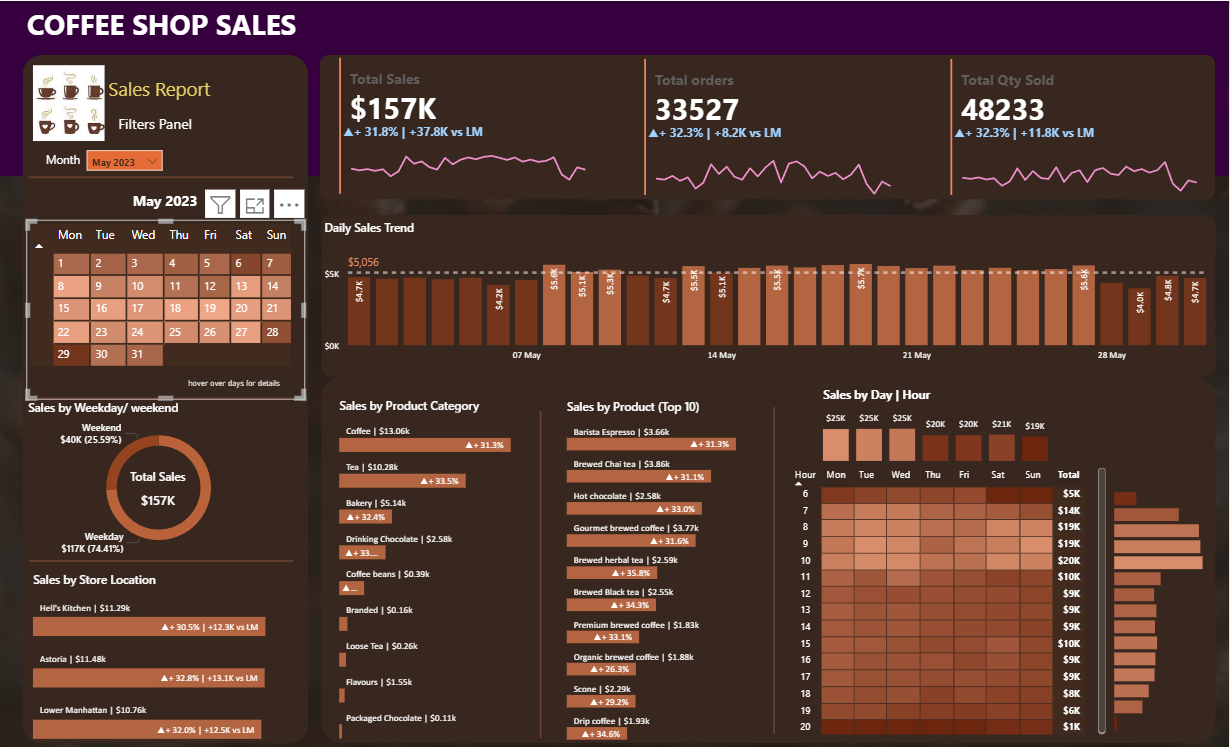

What the dashboard file says about the page in this screenshot:
{"tool":"powerbi","page":{"name":"Coffee Sales","canvas":[1400,850],"ordinal":0},"visuals":[{"type":"shape","box":[0,0,1400.3,199.6],"z":0},{"type":"shape","box":[25.5,61.5,325.7,785],"z":1000},{"type":"shape","box":[364.7,61.5,1020,165.1],"z":2000},{"type":"textbox","box":[25.5,0,325.7,52.5],"z":3000},{"type":"cardVisual","fields":{"Data":["Transactions.Total Sales"]},"box":[381.2,60,300.2,165.1],"z":4000,"group":"g3"},{"type":"cardVisual","fields":{"Data":["Transactions.Toatal orders"]},"box":[729.4,60.8,300.2,165.1],"z":4000,"group":"g4"},{"type":"cardVisual","fields":{"Data":["Transactions.Total Qty Sold"]},"box":[1077.6,61.5,300.2,165.1],"z":4000,"group":"g5"},{"type":"slicer","fields":{"Values":["Date Table.Month Year"]},"box":[94.6,165.1,96.1,34.5],"z":4000},{"type":"group","id":"g1","title":"Group 1","box":[381.2,60,300.2,165.1],"z":5000},{"type":"group","id":"g2","title":"Group 1","box":[729.4,60.8,300.2,165.1],"z":6000},{"type":"lineChart","fields":{"Y":["Transactions.Total Sales"],"Category":["Date Table.Date Hierarchy.Date"]},"box":[385.7,139.5,295.7,85.5],"z":6000,"group":"g3"},{"type":"lineChart","fields":{"Category":["Date Table.Date Hierarchy.Date"],"Y":["Transactions.Toatal orders"]},"box":[733.9,140.3,295.7,85.5],"z":6000,"group":"g4"},{"type":"lineChart","fields":{"Category":["Date Table.Date Hierarchy.Date"],"Y":["Transactions.Total Qty Sold"]},"box":[1082.1,141,295.7,85.5],"z":6000,"group":"g5"},{"type":"group","id":"g3","title":"Group 2","box":[381.2,60,300.2,165.1],"z":6002,"group":"g1"},{"type":"group","id":"g4","title":"Group 2","box":[729.4,60.8,300.2,165.1],"z":6002,"group":"g2"},{"type":"group","id":"g5","title":"Group 2","box":[1077.6,61.5,300.2,165.1],"z":6002,"group":"g6"},{"type":"group","id":"g6","title":"Group 1","box":[1077.6,61.5,300.2,165.1],"z":7000},{"type":"pivotTable","fields":{"Columns":["Date Table.Day Name"],"Rows":["Date Table.Weekname"],"Values":["Min(Date Table.Day Number)"]},"box":[30,249.1,318.2,205.6],"z":8000},{"type":"card","fields":{"Values":["Min(Date Table.Month Year)"]},"box":[124.6,214.6,129.1,28.5],"z":9000},{"type":"card","fields":{"Values":["Transactions.Foot note"]},"box":[184.6,420.2,163.6,34.5],"z":10000},{"type":"shape","box":[33,438.3,301.7,28.5],"z":11000},{"type":"shape","box":[33,186.1,301.7,28.5],"z":12000},{"type":"clusteredBarChart","title":"Sales by Store Location","fields":{"Category":["Transactions.store_location"],"Y":["Transactions.Placeholder","Transactions.Total Sales"]},"box":[33,649.9,300.2,199.6],"z":13000},{"type":"donutChart","title":"Sales by Weekday/ weekend","fields":{"Y":["Transactions.Total Sales"],"Category":["Date Table.Weekday/ weekend"]},"box":[27,454.8,307.7,183.1],"z":14000},{"type":"cardVisual","fields":{"Data":["Transactions.Total Sales"]},"box":[126.1,516.3,106.6,70.5],"z":15000},{"type":"shape","box":[33,624.4,301.7,28.5],"z":16000},{"type":"shape","box":[366.2,427.7,1019.1,418.7],"z":17000},{"type":"shape","box":[366.2,243.1,1019.1,184.6],"z":18000},{"type":"columnChart","title":"Daily Sales Trend","fields":{"Y":["Transactions.Total Sales"],"Category":["Transactions.transaction_date"]},"box":[364.7,249.1,1019.1,171.1],"z":19000},{"type":"clusteredBarChart","title":"Sales by Product Category","fields":{"Y":["Transactions.Placeholder","Transactions.Total Sales"],"Category":["Transactions.product_category"]},"box":[381.7,451.5,233.6,394.5],"z":20000},{"type":"shape","box":[579.7,467.2,72.6,373.2],"z":21000},{"type":"clusteredBarChart","title":"Sales by Product (Top 10)","fields":{"Y":["Transactions.Placeholder","Transactions.Total Sales"],"Category":["Transactions.product_type"]},"box":[640.9,452.9,233.6,394.5],"z":22000},{"type":"shape","box":[846.5,462.3,72,372.2],"z":23000},{"type":"pivotTable","fields":{"Rows":["Transactions.Hour"],"Columns":["Date Table.Day Name"],"Values":["Transactions.Total Sales"]},"box":[896,526.8,369.2,313.7],"z":24000},{"type":"barChart","fields":{"Category":["Transactions.Hour"],"Y":["Transactions.Total Sales"]},"box":[1265.2,546.3,112.6,288.2],"z":25000},{"type":"columnChart","title":"Sales by Day | Hour","fields":{"Y":["Transactions.Total Sales"],"Category":["Date Table.Day Name"]},"box":[933.5,438.3,267.2,91.6],"z":26000},{"type":"textbox","box":[46.5,166.6,79.5,40.5],"z":27000},{"type":"textbox","box":[30,79.5,303.2,40.5],"z":28000},{"type":"textbox","box":[63,124.6,228.1,40.5],"z":29000},{"type":"image","box":[33,69,91.6,96.1],"z":30000}]}

Visuals, with their boxes in screenshot pixels (x1, y1, x2, y2), scaled from the page's 1400x850 canvas onto the 1230x747 screenshot:
shape: <box>0,0,1229,175</box>
shape: <box>22,54,309,744</box>
shape: <box>320,54,1217,199</box>
textbox: <box>22,0,309,46</box>
cardVisual - Transactions.Total Sales: <box>335,53,599,198</box>
cardVisual - Transactions.Toatal orders: <box>641,53,905,199</box>
cardVisual - Transactions.Total Qty Sold: <box>947,54,1210,199</box>
slicer - Date Table.Month Year: <box>83,145,168,175</box>
"Group 1" group: <box>335,53,599,198</box>
"Group 1" group: <box>641,53,905,199</box>
lineChart - Transactions.Total Sales x Date Table.Date Hierarchy.Date: <box>339,123,599,198</box>
lineChart - Date Table.Date Hierarchy.Date x Transactions.Toatal orders: <box>645,123,905,198</box>
lineChart - Date Table.Date Hierarchy.Date x Transactions.Total Qty Sold: <box>951,124,1210,199</box>
"Group 2" group: <box>335,53,599,198</box>
"Group 2" group: <box>641,53,905,199</box>
"Group 2" group: <box>947,54,1210,199</box>
"Group 1" group: <box>947,54,1210,199</box>
pivotTable - Date Table.Day Name x Date Table.Weekname: <box>26,219,306,400</box>
card - Min(Date Table.Month Year): <box>109,189,223,214</box>
card - Transactions.Foot note: <box>162,369,306,400</box>
shape: <box>29,385,294,410</box>
shape: <box>29,164,294,189</box>
"Sales by Store Location" clusteredBarChart: <box>29,571,293,746</box>
"Sales by Weekday/ weekend" donutChart: <box>24,400,294,561</box>
cardVisual - Transactions.Total Sales: <box>111,454,204,516</box>
shape: <box>29,549,294,574</box>
shape: <box>322,376,1217,744</box>
shape: <box>322,214,1217,376</box>
"Daily Sales Trend" columnChart: <box>320,219,1216,369</box>
"Sales by Product Category" clusteredBarChart: <box>335,397,541,743</box>
shape: <box>509,411,573,739</box>
"Sales by Product (Top 10)" clusteredBarChart: <box>563,398,768,745</box>
shape: <box>744,406,807,733</box>
pivotTable - Transactions.Hour x Date Table.Day Name: <box>787,463,1112,739</box>
barChart - Transactions.Hour x Transactions.Total Sales: <box>1112,480,1210,733</box>
"Sales by Day | Hour" columnChart: <box>820,385,1055,466</box>
textbox: <box>41,146,111,182</box>
textbox: <box>26,70,293,105</box>
textbox: <box>55,110,256,145</box>
image: <box>29,61,109,145</box>
